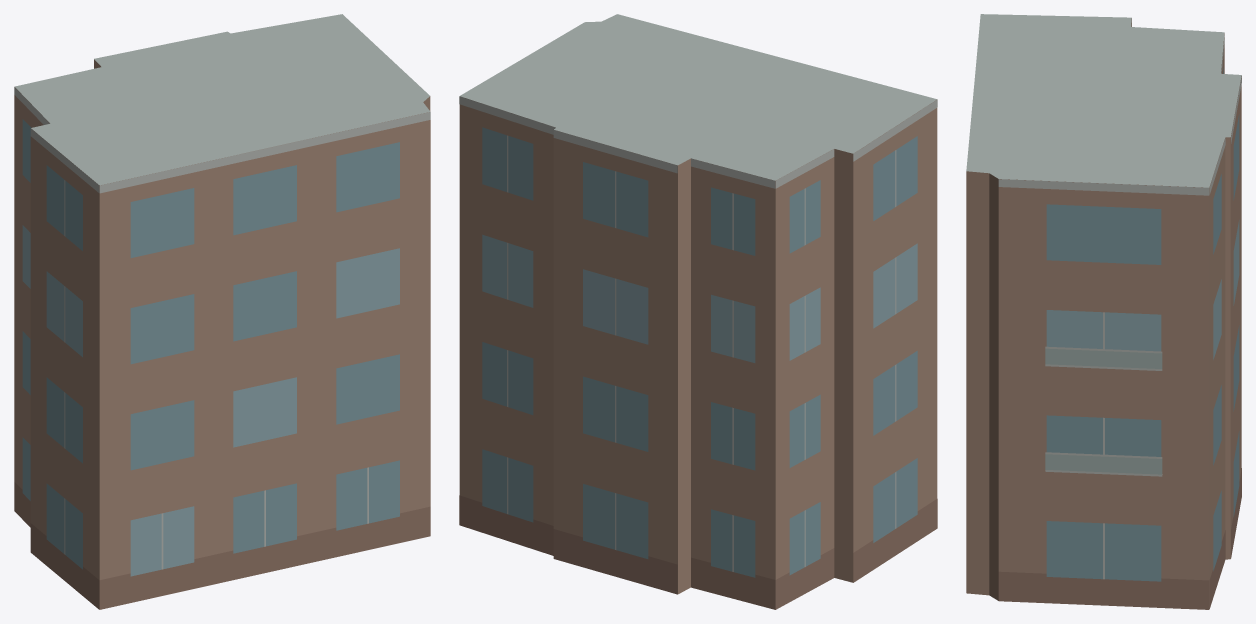
File: survey-upis-32464434.glb
3 views of the same model, side by side, from view 1: azimuth 30°, elevation 25°; view 2: azimuth 150°, elevation 25°; view 3: azimuth 270°, elevation 25° (orthographic).
Visible parts, largest first — view 1: survey-upis-32464434.tmp; view 2: survey-upis-32464434.tmp; view 3: survey-upis-32464434.tmp.
Boxes of the visible parts, left/top/right/bottom form: survey-upis-32464434.tmp: left=14, top=14, right=430, bottom=609; survey-upis-32464434.tmp: left=459, top=14, right=937, bottom=609; survey-upis-32464434.tmp: left=966, top=14, right=1241, bottom=609.
Size of the model in its own units: 11.35 by 12.85 by 7.61.
